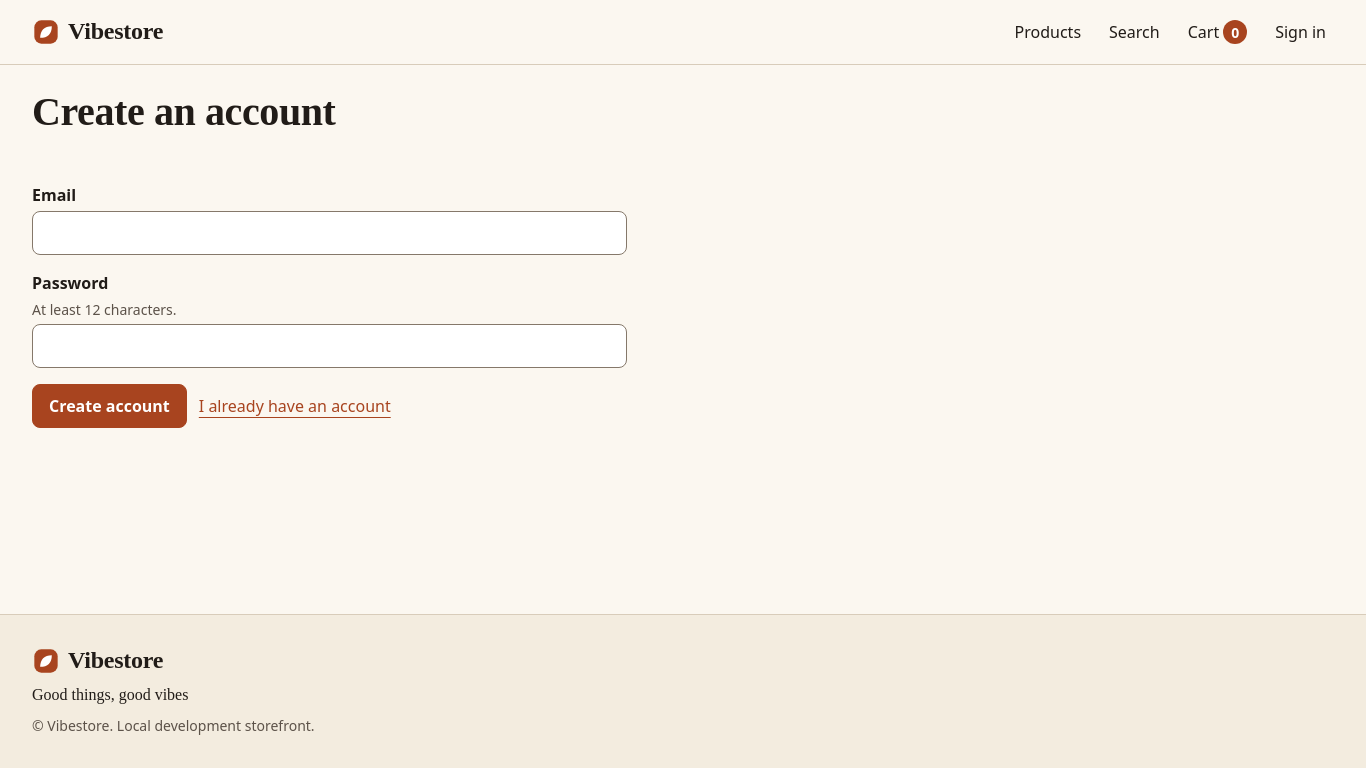
Test: Register (FR-005) › shows the platform field errors next to the fields
Expected: the heading "Create an account" is shown, [32,89,336,134]
In the field labelled "Email": coordinates (329, 233) [32,211,627,255], type "new@example.com"
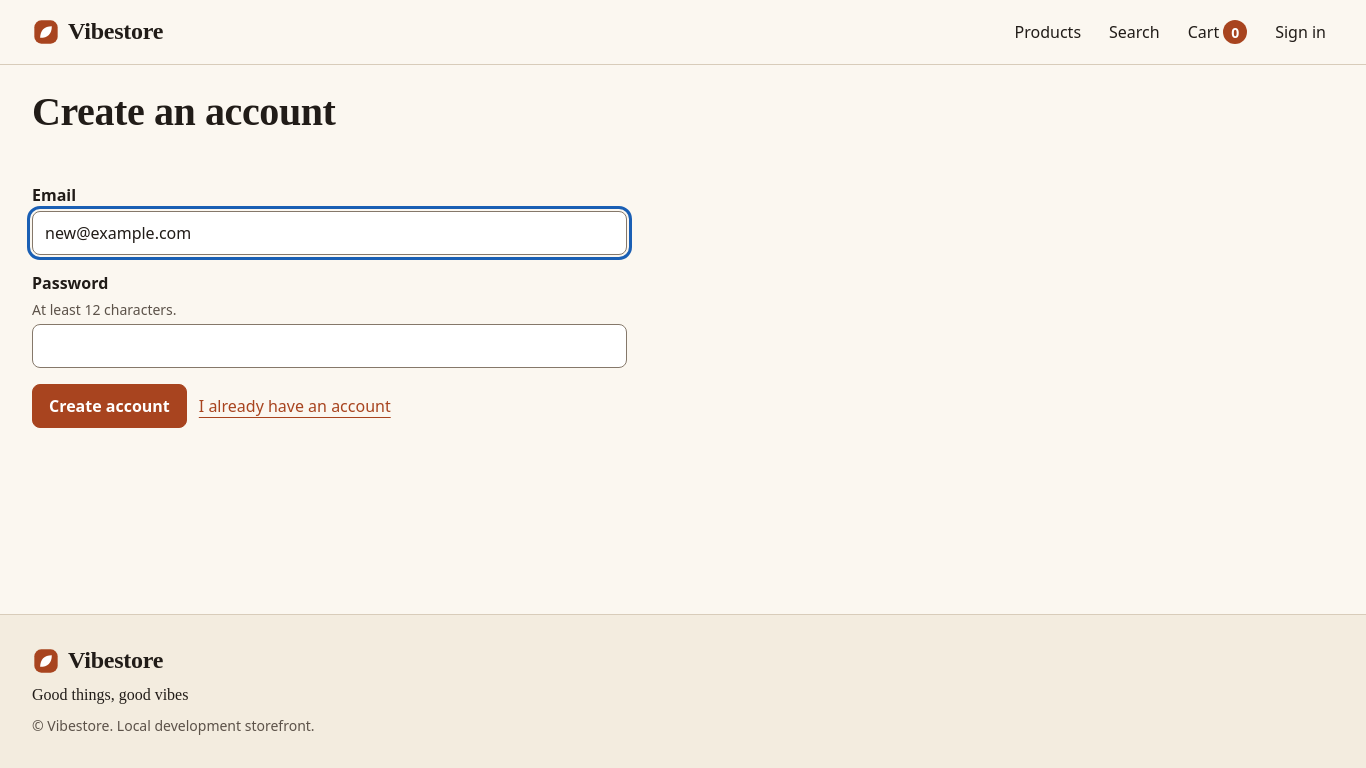
In the password field labelled "Password": coordinates (329, 346) [32,324,627,368], type "new@example.com"
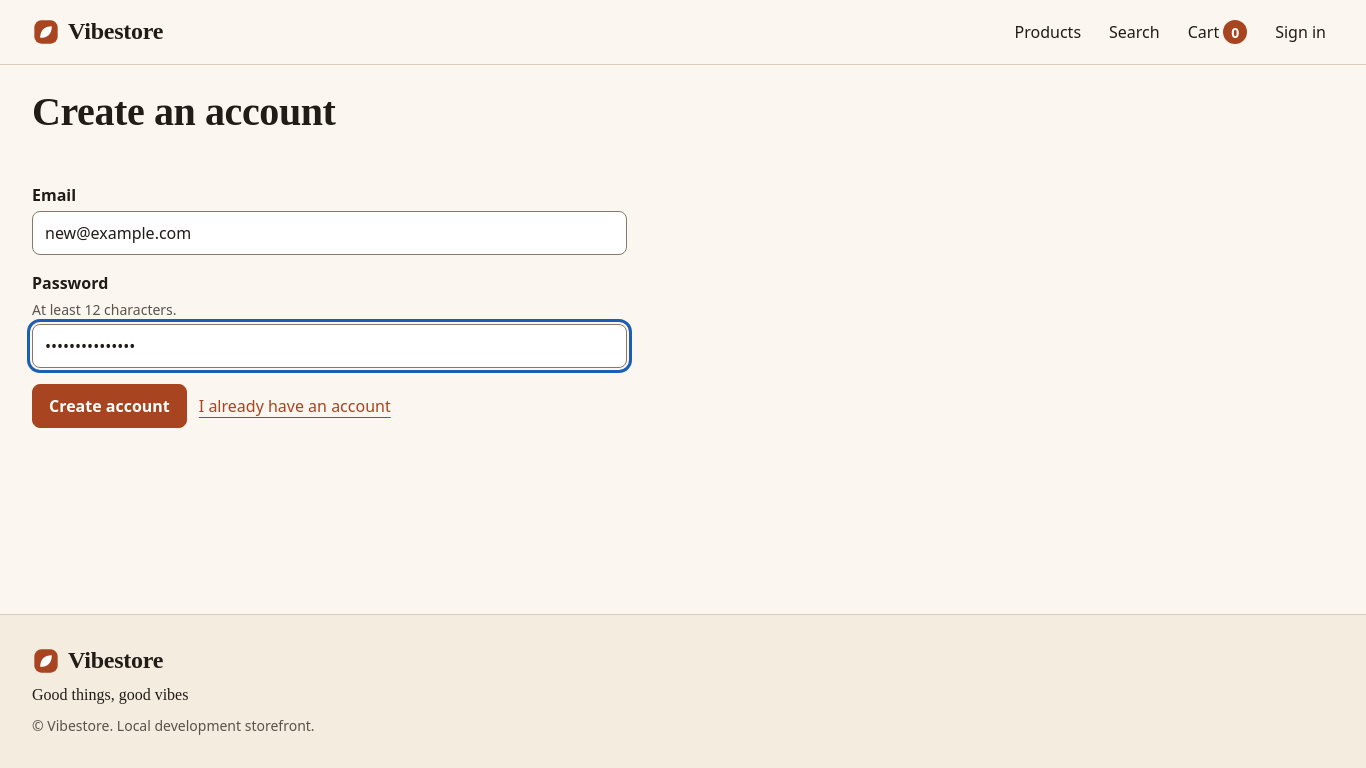
Click the button "Create account": coordinates (109, 406) [32,384,187,428]
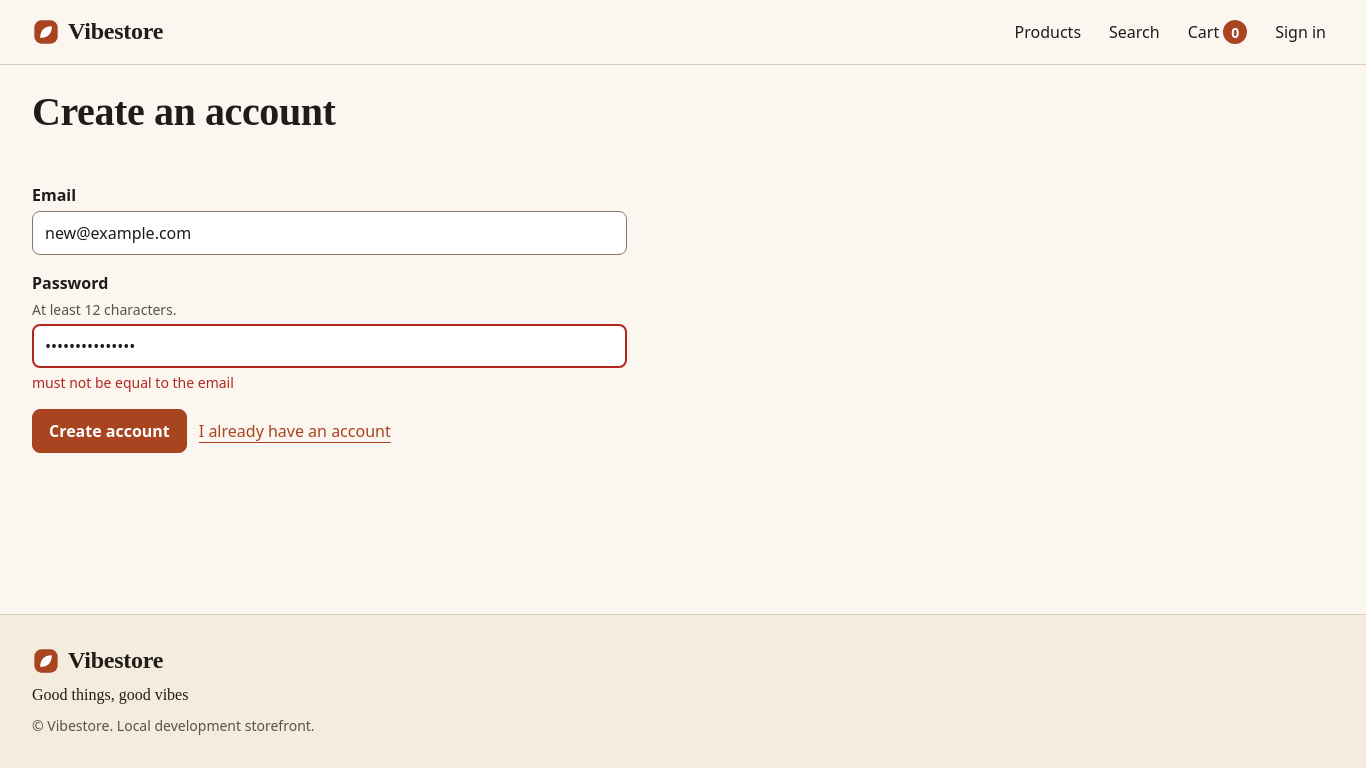
Expected: the message reads "must not be equal to the email", [32,373,234,392]
